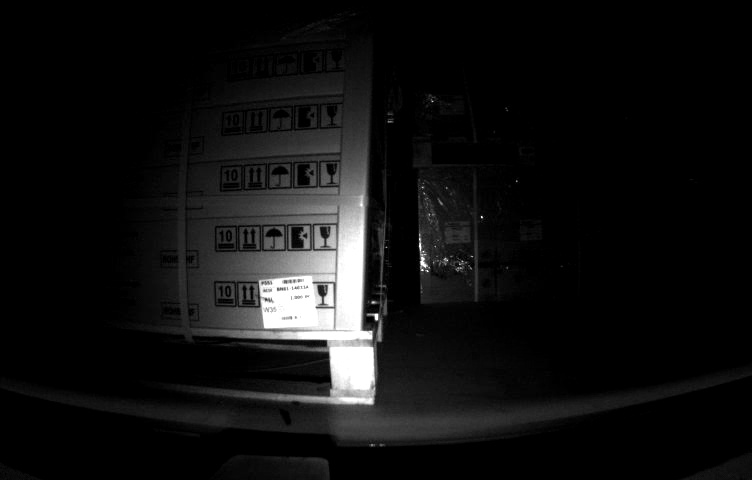True Barcode: (257, 273, 318, 329)
